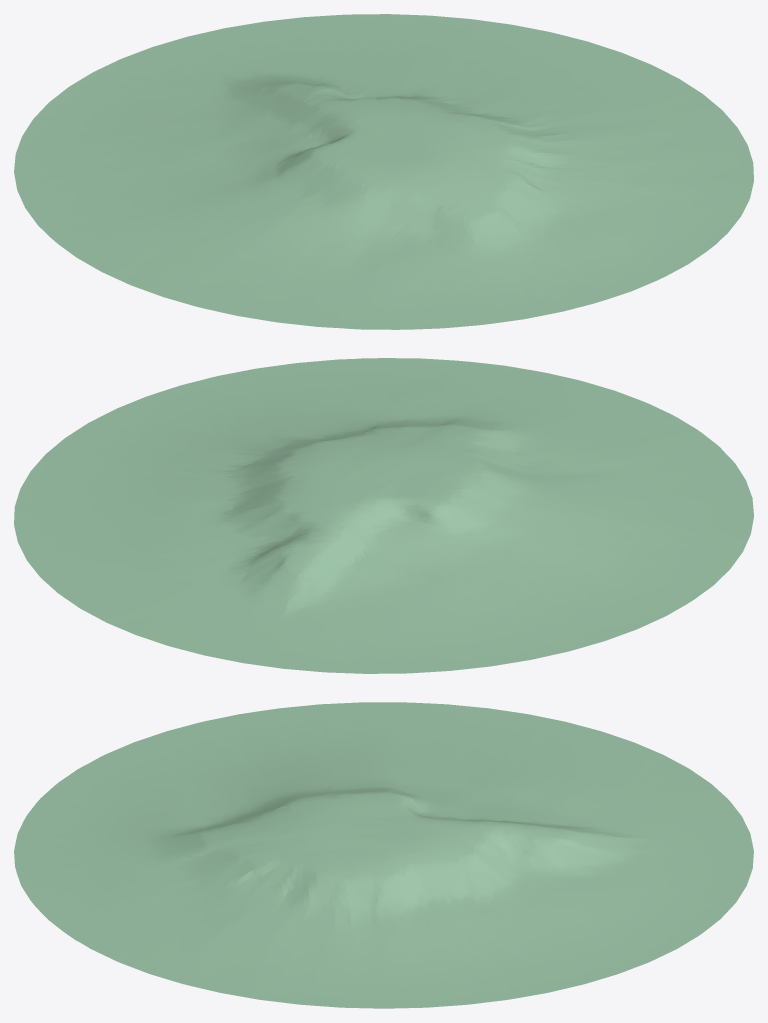
File: island_coral_medium_F.fbx
3 views of the same model, one above another, from view 1: azimuth 30°, elevation 25°; view 2: azimuth 150°, elevation 25°; view 3: azimuth 270°, elevation 25° (orthographic).
Visible parts, largest first — view 1: island_coral_medium_F; view 2: island_coral_medium_F; view 3: island_coral_medium_F.
Part boxes in pixels (left/top/right/bottom): island_coral_medium_F: left=14, top=14, right=753, bottom=329; island_coral_medium_F: left=14, top=358, right=753, bottom=673; island_coral_medium_F: left=14, top=702, right=753, bottom=1008.
Size of the model in its own units: 9921 by 488 by 10127.
